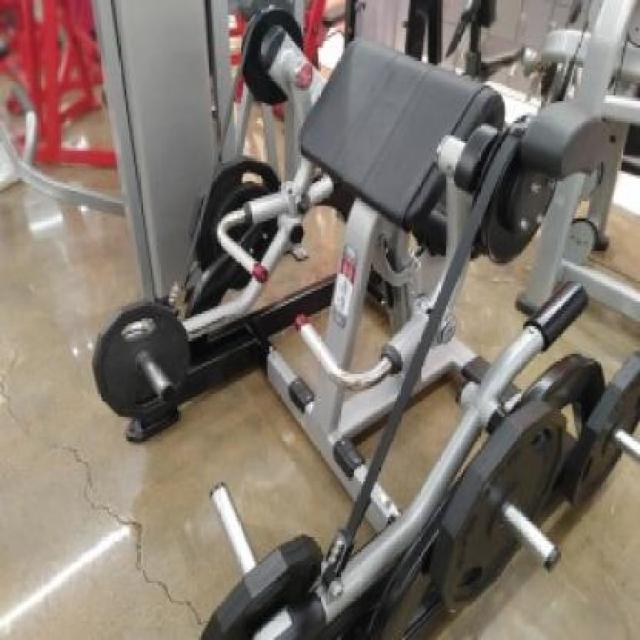arm curl machine: (87, 7, 640, 640)
